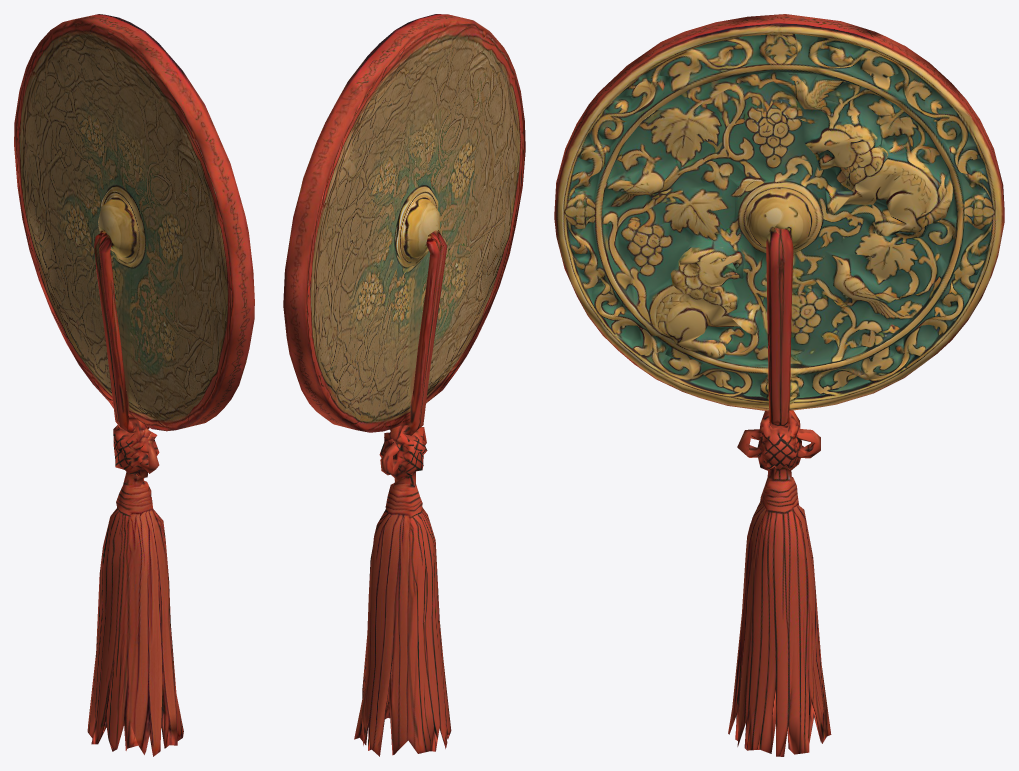
Rendered from mirror.glb.
3 views of the same model, side by side, from view 1: azimuth 30°, elevation 25°; view 2: azimuth 150°, elevation 25°; view 3: azimuth 270°, elevation 25° (orthographic). The views are drawn at different scales.
Visible parts, largest first — view 1: kusuriuri; view 2: kusuriuri; view 3: kusuriuri.
Boxes of the visible parts, x1=… form: kusuriuri: x1=14, y1=14, x2=254, y2=756; kusuriuri: x1=283, y1=14, x2=525, y2=756; kusuriuri: x1=554, y1=14, x2=1004, y2=756.
Size of the model in its own units: 0.023 by 0.18 by 0.1022.
1 material, 1 textured.
